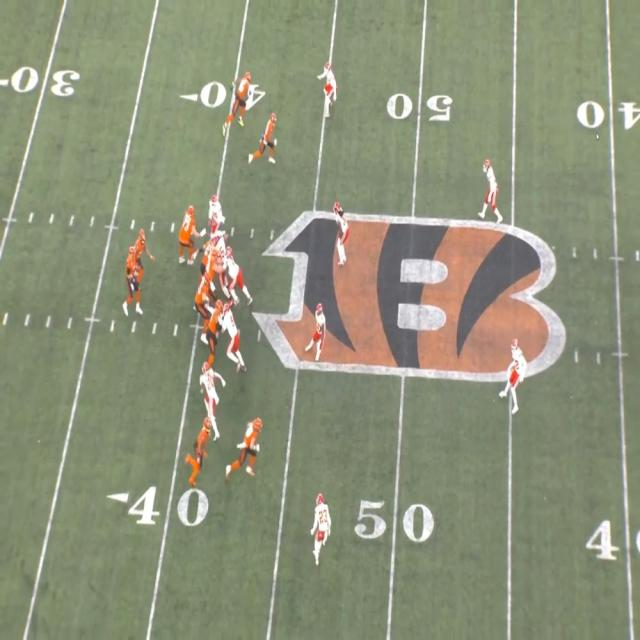db: (200, 362, 224, 431), (504, 346, 526, 408), (311, 493, 330, 562), (481, 158, 499, 218), (319, 64, 337, 115)
lb: (332, 205, 352, 264), (309, 300, 328, 352)
qb: (128, 251, 144, 315)
skill: (186, 412, 210, 488), (237, 418, 262, 478), (232, 76, 258, 126), (256, 114, 278, 162), (131, 235, 149, 252)
